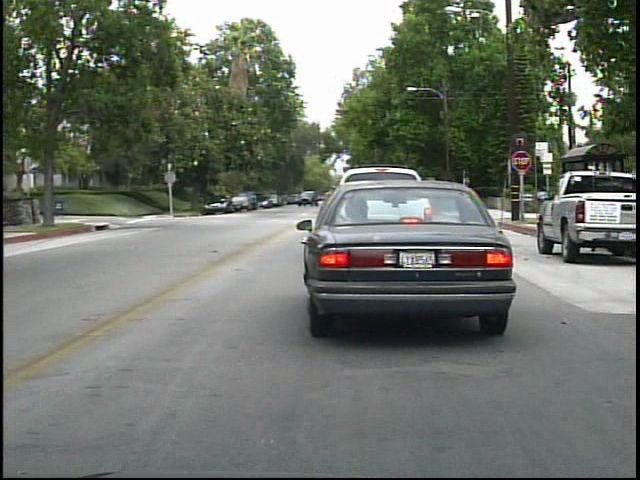person: (248, 189, 259, 213)
